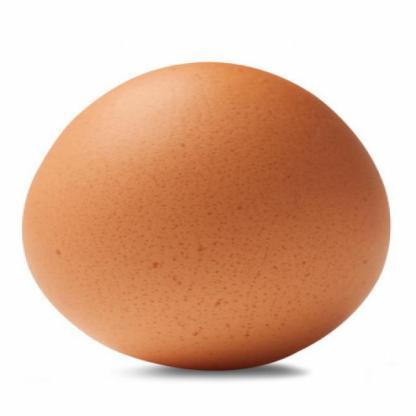egg: (18, 31, 400, 384)
